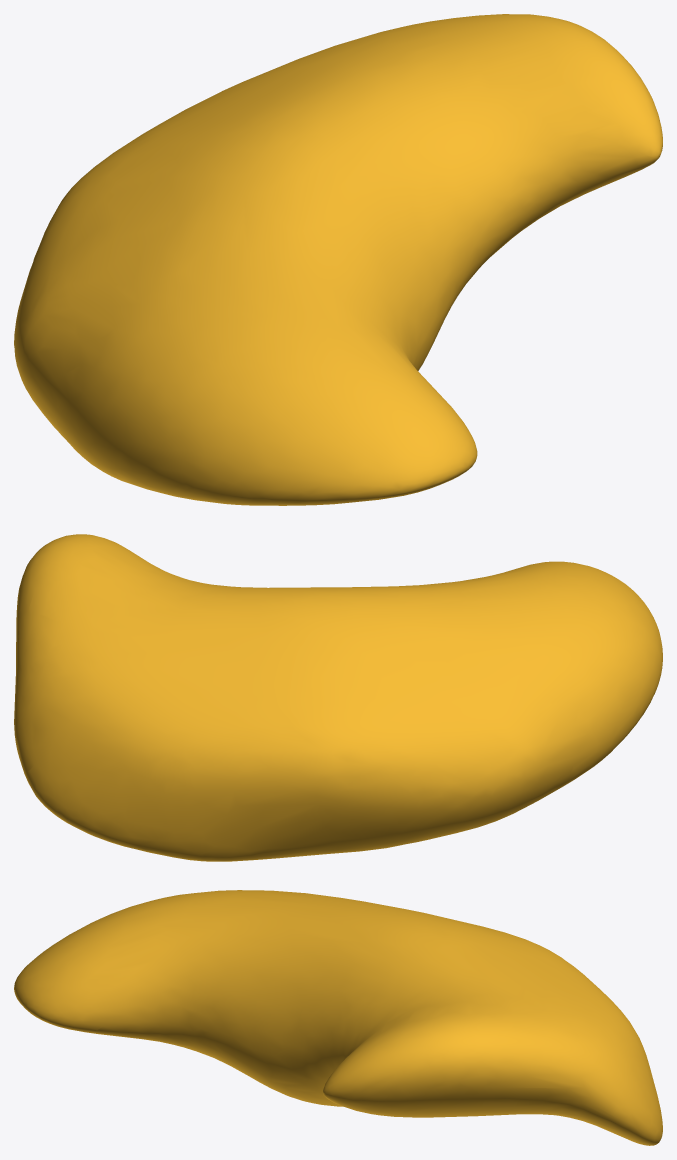
The model's file is nervoso-superior-semilunar-lobule-r.glb.
3 views of the same model, one above another, from view 1: azimuth 30°, elevation 25°; view 2: azimuth 150°, elevation 25°; view 3: azimuth 270°, elevation 25° (orthographic). The views are drawn at different scales.
Parts seen in each view (by area): view 1: Superior semilunar lobule.r; view 2: Superior semilunar lobule.r; view 3: Superior semilunar lobule.r.
Part boxes in pixels (x1,y1,x2,y2): Superior semilunar lobule.r: [14, 14, 662, 505]; Superior semilunar lobule.r: [14, 534, 662, 861]; Superior semilunar lobule.r: [14, 890, 662, 1145].
Bounding box in the file's own units: 0.049 × 0.0193 × 0.056.
